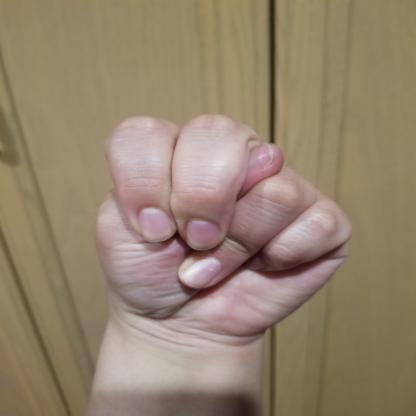N: (84, 110, 358, 340)
